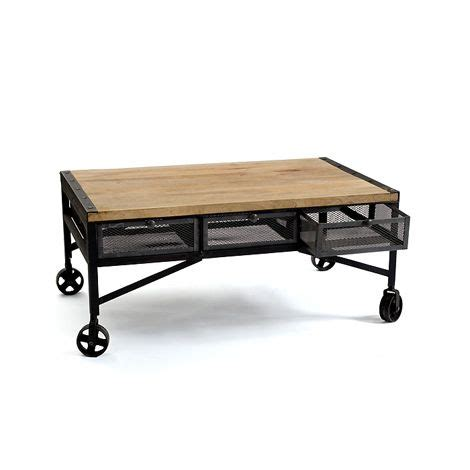Carts: (55, 155, 411, 358)
